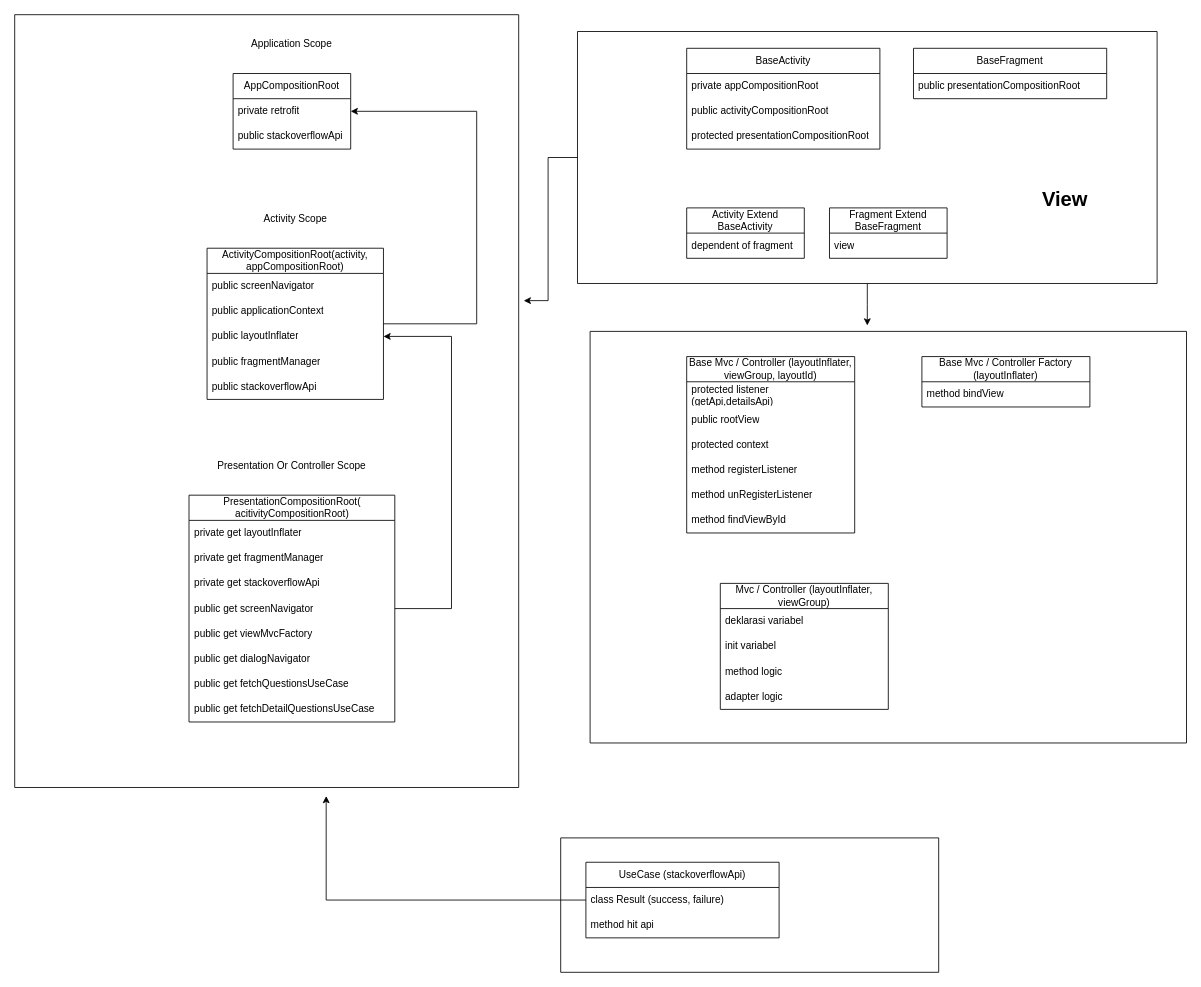
The diagram is 1201 pixels wide and 987 high, and some of its shapes have lost their labels. Each missing label, with the centre of its shape:
"MVC" goes at (x=887, y=537).
"Networking" goes at (x=749, y=904).
